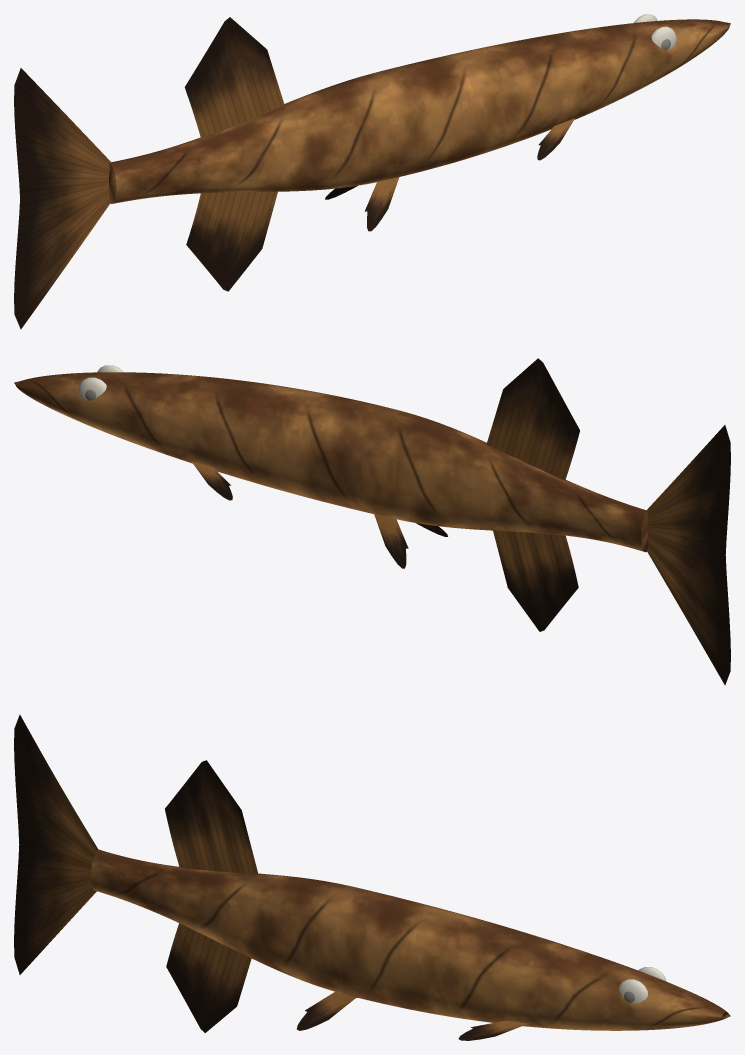
File: fish_pike_cooked.gltf
The picture shows the model from 3 angles, top to bottom: view 1: azimuth 30°, elevation 25°; view 2: azimuth 150°, elevation 25°; view 3: azimuth 330°, elevation 25°; orthographic projection.
Visible parts, largest first — view 1: fish_pike_cooked; view 2: fish_pike_cooked; view 3: fish_pike_cooked.
Boxes of the visible parts, bbox=[...] form: fish_pike_cooked: bbox=[14, 14, 730, 329]; fish_pike_cooked: bbox=[14, 358, 730, 685]; fish_pike_cooked: bbox=[14, 714, 730, 1040].
Size of the model in its own units: 0.7394 by 0.27 by 0.097.
6 materials, 4 textured.
